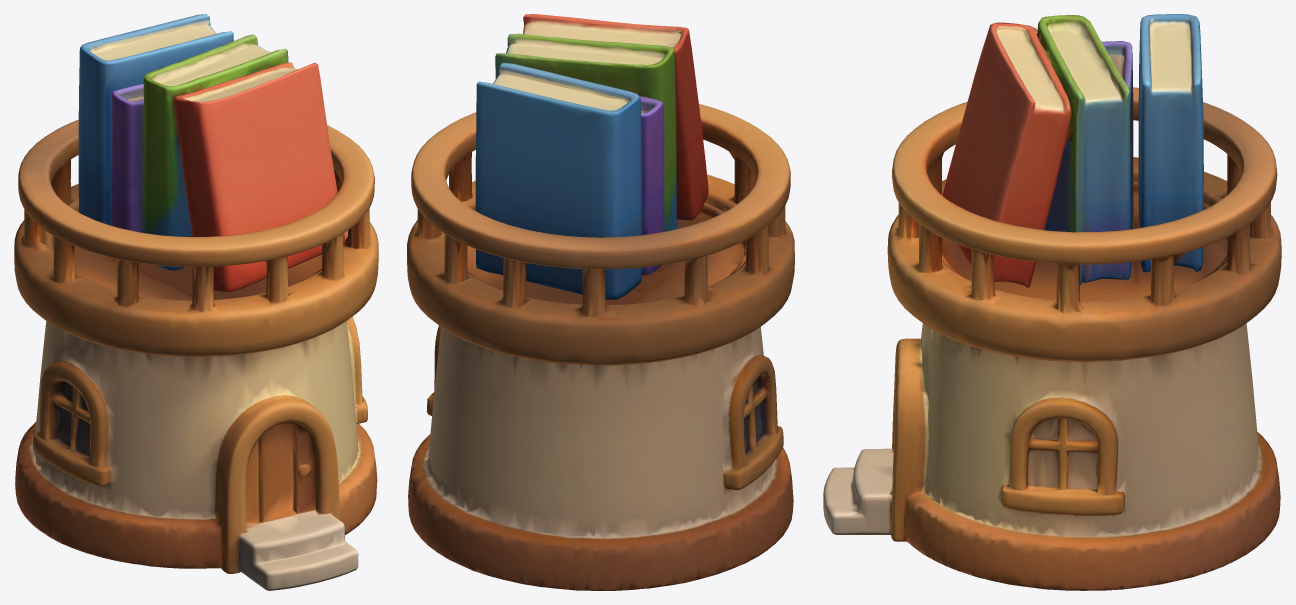
File: library.glb
3 renders of one model, left to right at view 1: azimuth 30°, elevation 25°; view 2: azimuth 150°, elevation 25°; view 3: azimuth 270°, elevation 25°, orthographic. The views are drawn at different scales.
Parts seen in each view (by area): view 1: tripo_node_266e190d-c0f7-43e6-b6c1-b84fe2aec42e; view 2: tripo_node_266e190d-c0f7-43e6-b6c1-b84fe2aec42e; view 3: tripo_node_266e190d-c0f7-43e6-b6c1-b84fe2aec42e.
Boxes of the visible parts, x1,y1,x2,y2 form: tripo_node_266e190d-c0f7-43e6-b6c1-b84fe2aec42e: (14,14,378,590); tripo_node_266e190d-c0f7-43e6-b6c1-b84fe2aec42e: (407,14,794,590); tripo_node_266e190d-c0f7-43e6-b6c1-b84fe2aec42e: (823,14,1281,590).
Bounding box in the file's own units: 0.7567 × 0.9976 × 0.8821.
Materials: 1 (1 with a texture image).
